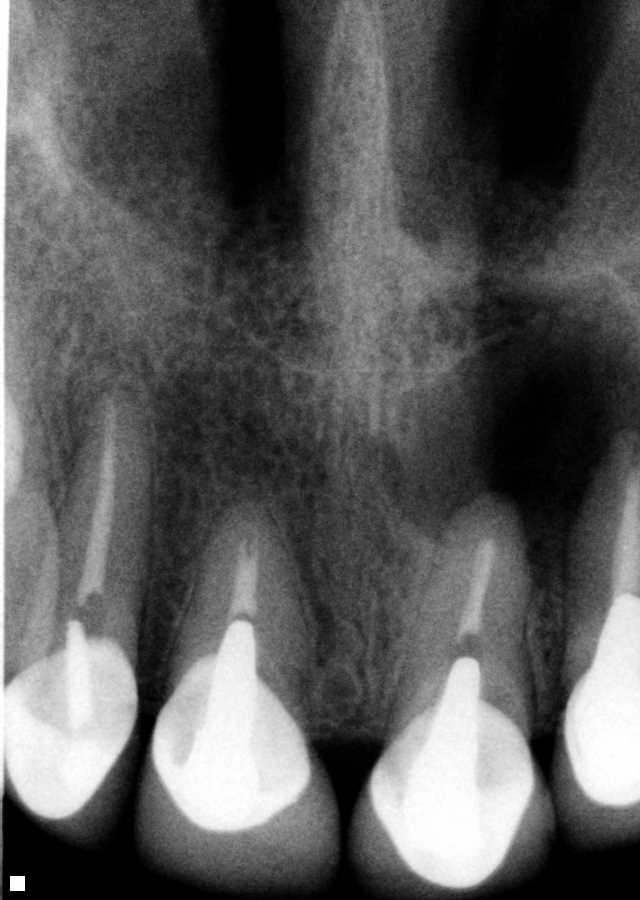Apical Lesion: (366, 273, 640, 562)
Main Root: (384, 497, 535, 739), (25, 386, 150, 663), (170, 496, 322, 712), (561, 430, 640, 692)
Root Canal Filling: (75, 398, 115, 610), (455, 538, 495, 643), (615, 466, 640, 597), (235, 540, 260, 621)
